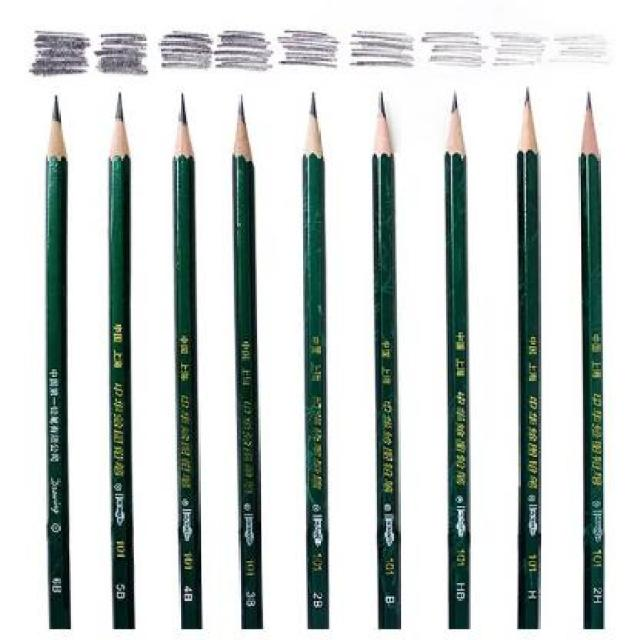pencil: (294, 84, 335, 638), (168, 84, 208, 633), (437, 87, 477, 635), (228, 86, 268, 632), (368, 86, 404, 632), (511, 80, 546, 631), (41, 90, 76, 632), (106, 86, 139, 634), (577, 88, 609, 632)
